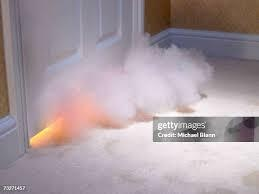fire: (23, 117, 89, 152)
smoke: (49, 37, 214, 113)
